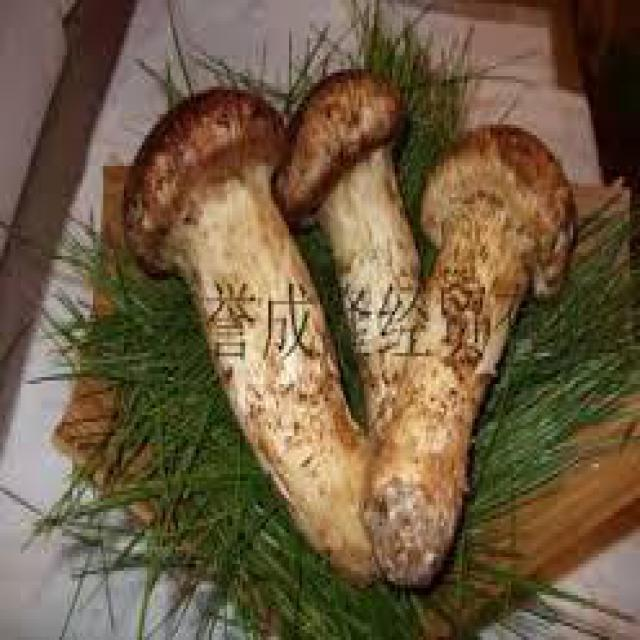Agaricus blazei Murill: (282, 71, 575, 587), (127, 86, 375, 576)
